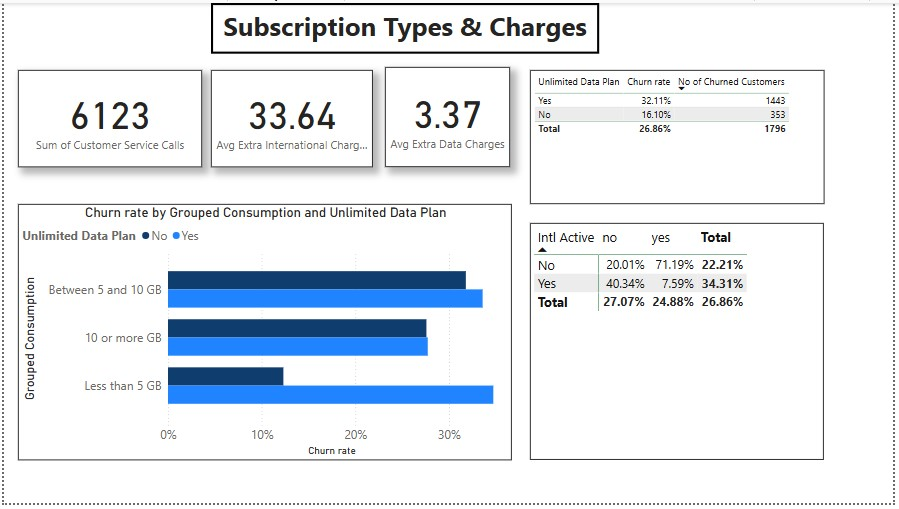

This screenshot's page, from the dashboard's own definition file:
{"tool":"powerbi","page":{"name":"Subscription types & charges","canvas":[1280,720],"ordinal":3},"visuals":[{"type":"clusteredBarChart","fields":{"Category":["Databel - Data.Grouped Consumption"],"Y":["MeasureTable.Churn rate"],"Series":["Databel - Data.Unlimited Data Plan"]},"box":[20.2,289.4,711.4,368.6],"z":0},{"type":"tableEx","fields":{"Values":["Databel - Data.Unlimited Data Plan","MeasureTable.Churn rate","MeasureTable.No of Churned Customers"]},"box":[758,96.5,423.7,193.1],"z":1000},{"type":"pivotTable","fields":{"Rows":["Databel - Data.Intl Active"],"Values":["MeasureTable.Churn rate"],"Columns":["Databel - Data.Intl Plan"]},"box":[757.4,316.8,423.4,341.3],"z":2000},{"type":"textbox","box":[298.1,0,558.7,73.4],"z":3000},{"type":"card","fields":{"Values":["Sum(Databel - Data.Customer Service Calls)"]},"box":[20.2,96.5,265,139.7],"z":4000},{"type":"card","fields":{"Values":["MeasureTable.Avg Extra International Charges"]},"box":[298.1,96.5,233.3,139.7],"z":5000},{"type":"card","fields":{"Values":["MeasureTable.Avg Extra Data Charges"]},"box":[548.6,92.2,180,144],"z":6000}]}

Visuals, with their boxes in screenshot pixels (x1, y1, x2, y2), scaled from the page's 1280x720 canvas onto the 899x509 screenshot:
clusteredBarChart - Databel - Data.Grouped Consumption x MeasureTable.Churn rate: [14,205,514,465]
tableEx - Databel - Data.Unlimited Data Plan x MeasureTable.Churn rate: [532,68,830,205]
pivotTable - Databel - Data.Intl Active x MeasureTable.Churn rate: [532,224,829,465]
textbox: [209,0,602,52]
card - Sum(Databel - Data.Customer Service Calls): [14,68,200,167]
card - MeasureTable.Avg Extra International Charges: [209,68,373,167]
card - MeasureTable.Avg Extra Data Charges: [385,65,512,167]
